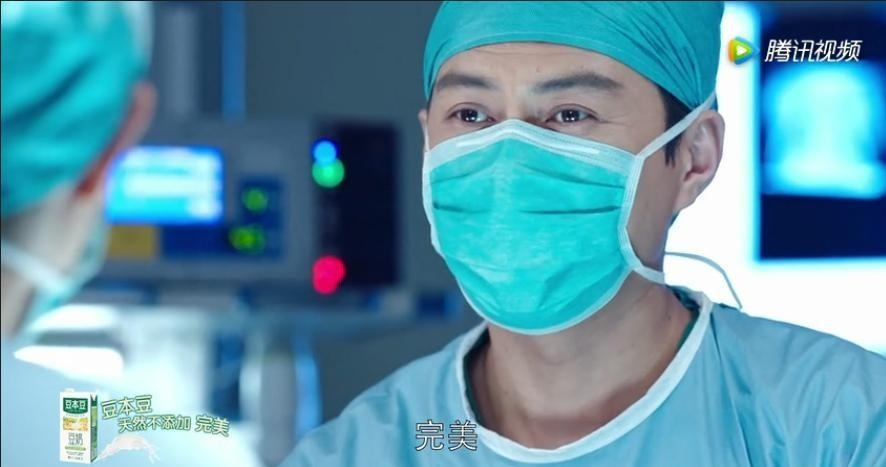Mask: (418, 67, 674, 323)
